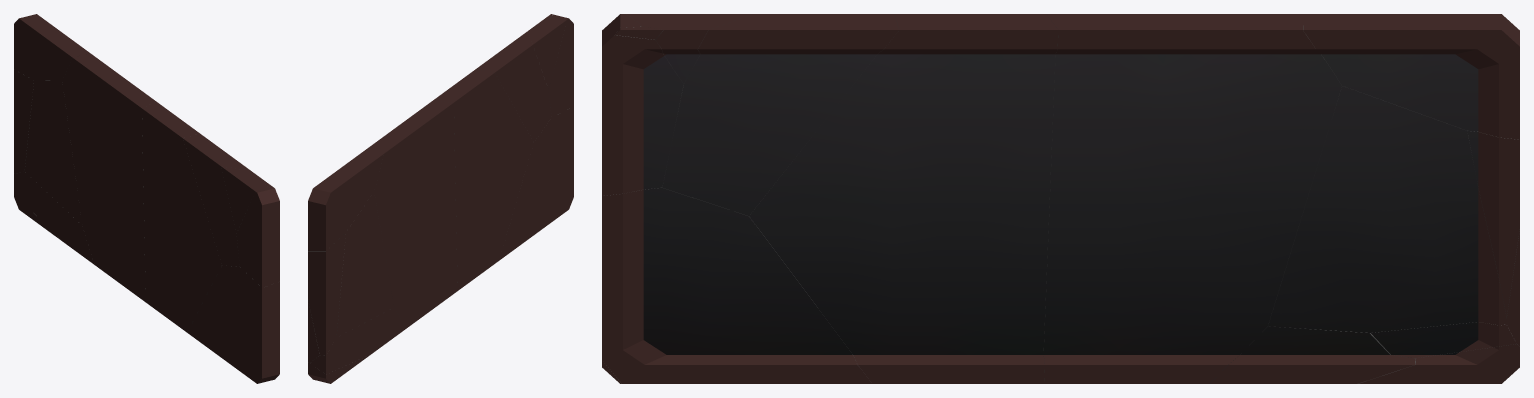
File: Bigass_Screen_DEST 1.fbx
The picture shows the model from 3 angles, left to right: view 1: azimuth 30°, elevation 25°; view 2: azimuth 150°, elevation 25°; view 3: azimuth 270°, elevation 25°; orthographic projection. The views are drawn at different scales.
Parts seen in each view (by area): view 1: man_hinh_den_cell.006, man_hinh_den_cell.016, man_hinh_den_cell.014, man_hinh_den_cell.011, man_hinh_den_cell.010, man_hinh_den_cell.002, man_hinh_den_cell.005, man_hinh_den_cell.008, man_hinh_den_cell.015, man_hinh_den_cell.004, man_hinh_den_cell.012; view 2: man_hinh_den_cell.006, man_hinh_den_cell.016, man_hinh_den_cell.014, man_hinh_den_cell.011, man_hinh_den_cell.005, man_hinh_den_cell.010, man_hinh_den_cell.015, man_hinh_den_cell.008, man_hinh_den_cell.002, man_hinh_den_cell.004, man_hinh_den_cell.012, man_hinh_den_cell.007; view 3: man_hinh_den_cell.006, man_hinh_den_cell.016, man_hinh_den_cell.011, man_hinh_den_cell.014, man_hinh_den_cell.010, man_hinh_den_cell.005, man_hinh_den_cell.002, man_hinh_den_cell.009, man_hinh_den_cell.015, man_hinh_den_cell.012, man_hinh_den_cell.008, man_hinh_den_cell.004 (+1 smaller).
Part boxes in pixels (left/top/right/bottom): man_hinh_den_cell.006: left=62, top=53, right=156, bottom=301; man_hinh_den_cell.016: left=142, top=101, right=221, bottom=332; man_hinh_den_cell.014: left=187, top=265, right=279, bottom=383; man_hinh_den_cell.011: left=24, top=80, right=82, bottom=225; man_hinh_den_cell.010: left=183, top=133, right=250, bottom=266; man_hinh_den_cell.002: left=236, top=185, right=279, bottom=287; man_hinh_den_cell.005: left=14, top=14, right=89, bottom=80; man_hinh_den_cell.008: left=14, top=171, right=94, bottom=264; man_hinh_den_cell.015: left=14, top=69, right=33, bottom=173; man_hinh_den_cell.004: left=221, top=166, right=264, bottom=232; man_hinh_den_cell.012: left=14, top=193, right=59, bottom=239; man_hinh_den_cell.006: left=367, top=100, right=457, bottom=328; man_hinh_den_cell.016: left=433, top=69, right=533, bottom=290; man_hinh_den_cell.014: left=499, top=106, right=573, bottom=260; man_hinh_den_cell.011: left=336, top=192, right=393, bottom=337; man_hinh_den_cell.005: left=308, top=149, right=384, bottom=250; man_hinh_den_cell.010: left=476, top=32, right=551, bottom=141; man_hinh_den_cell.015: left=308, top=233, right=345, bottom=355; man_hinh_den_cell.008: left=310, top=307, right=406, bottom=374; man_hinh_den_cell.002: left=548, top=14, right=573, bottom=117; man_hinh_den_cell.004: left=527, top=19, right=567, bottom=88; man_hinh_den_cell.012: left=308, top=354, right=370, bottom=383; man_hinh_den_cell.007: left=308, top=300, right=319, bottom=362; man_hinh_den_cell.006: left=1043, top=14, right=1341, bottom=383; man_hinh_den_cell.016: left=749, top=14, right=1058, bottom=383; man_hinh_den_cell.011: left=1268, top=86, right=1506, bottom=332; man_hinh_den_cell.014: left=602, top=187, right=871, bottom=383; man_hinh_den_cell.010: left=662, top=14, right=898, bottom=215; man_hinh_den_cell.005: left=1303, top=14, right=1519, bottom=139; man_hinh_den_cell.002: left=602, top=14, right=683, bottom=195; man_hinh_den_cell.009: left=1210, top=326, right=1415, bottom=383; man_hinh_den_cell.015: left=1467, top=130, right=1519, bottom=317; man_hinh_den_cell.012: left=1358, top=344, right=1519, bottom=383; man_hinh_den_cell.008: left=1370, top=322, right=1516, bottom=358; man_hinh_den_cell.004: left=626, top=14, right=753, bottom=84.
Size of the model in its own units: 69.51 by 709 by 1668.
2 materials, 1 textured.
